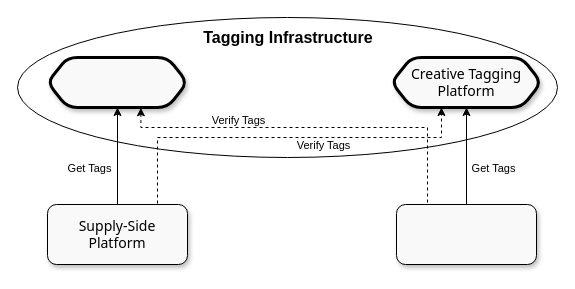
The diagram is 575 pixels wide and 289 high, and some of its shapes have lost their labels. Here are the shapes that lost their labels. From the top down, the centre of each, then its label:
At (x=118, y=84): "Site Tagging Platform".
At (x=467, y=236): "Demand-Side Platform".
